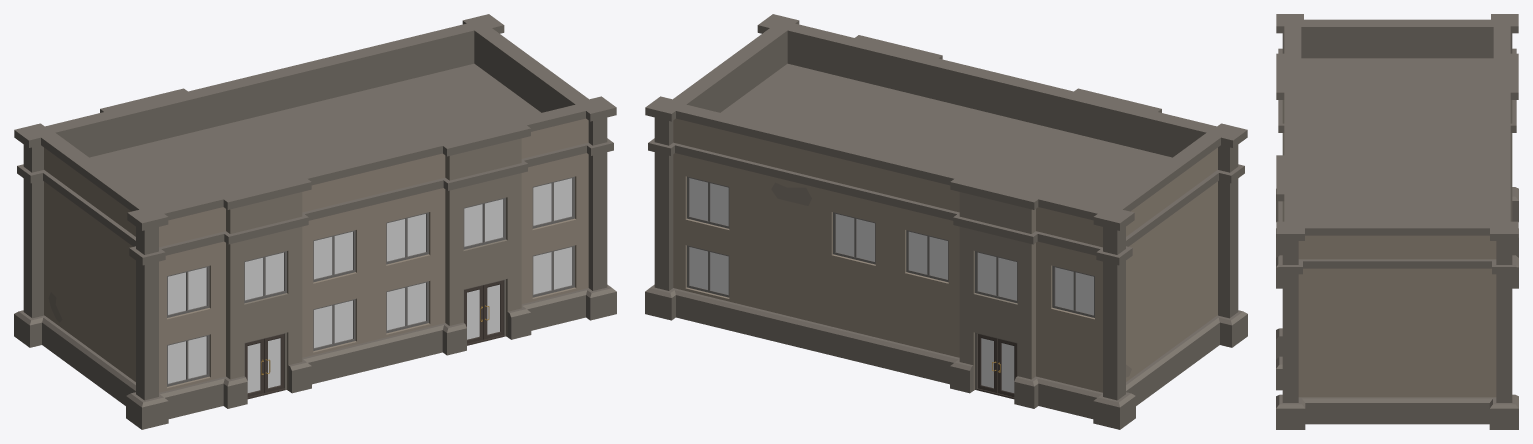
File: SM_Bldg_City_General_02.fbx
3 renders of one model, left to right at view 1: azimuth 30°, elevation 25°; view 2: azimuth 150°, elevation 25°; view 3: azimuth 270°, elevation 25°, orthographic. The views are drawn at different scales.
Visible parts, largest first — view 1: SM_Bldg_City_General_02, SM_Bldg_City_General_02_Glass; view 2: SM_Bldg_City_General_02, SM_Bldg_City_General_02_Glass; view 3: SM_Bldg_City_General_02.
Boxes of the visible parts, box(x1,y1,x2,y2) form: SM_Bldg_City_General_02: box(14, 14, 616, 429); SM_Bldg_City_General_02_Glass: box(168, 178, 572, 383); SM_Bldg_City_General_02: box(645, 14, 1247, 429); SM_Bldg_City_General_02_Glass: box(689, 178, 1093, 314); SM_Bldg_City_General_02: box(1276, 14, 1518, 429).
Size of the model in its own units: 1949 by 810 by 909.
